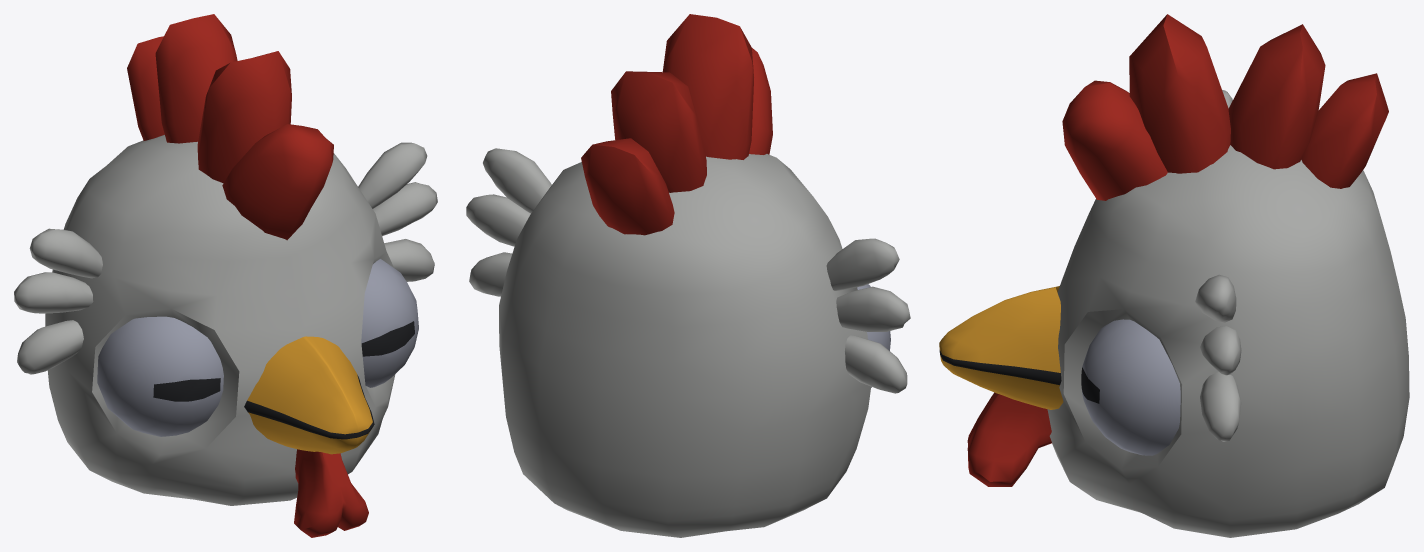
Rendered from cc0-chicken-lod0.glb.
The picture shows the model from 3 angles, left to right: view 1: azimuth 30°, elevation 25°; view 2: azimuth 150°, elevation 25°; view 3: azimuth 270°, elevation 25°; orthographic projection. The views are drawn at different scales.
Visible parts, largest first — view 1: part_4; view 2: part_4; view 3: part_4.
Part boxes in pixels (x1,y1,x2,y2): part_4: [14, 14, 437, 537]; part_4: [466, 14, 910, 537]; part_4: [939, 14, 1409, 537].
Bounding box in the file's own units: 2.35 × 2.35 × 2.1.
1 material, 1 textured.
